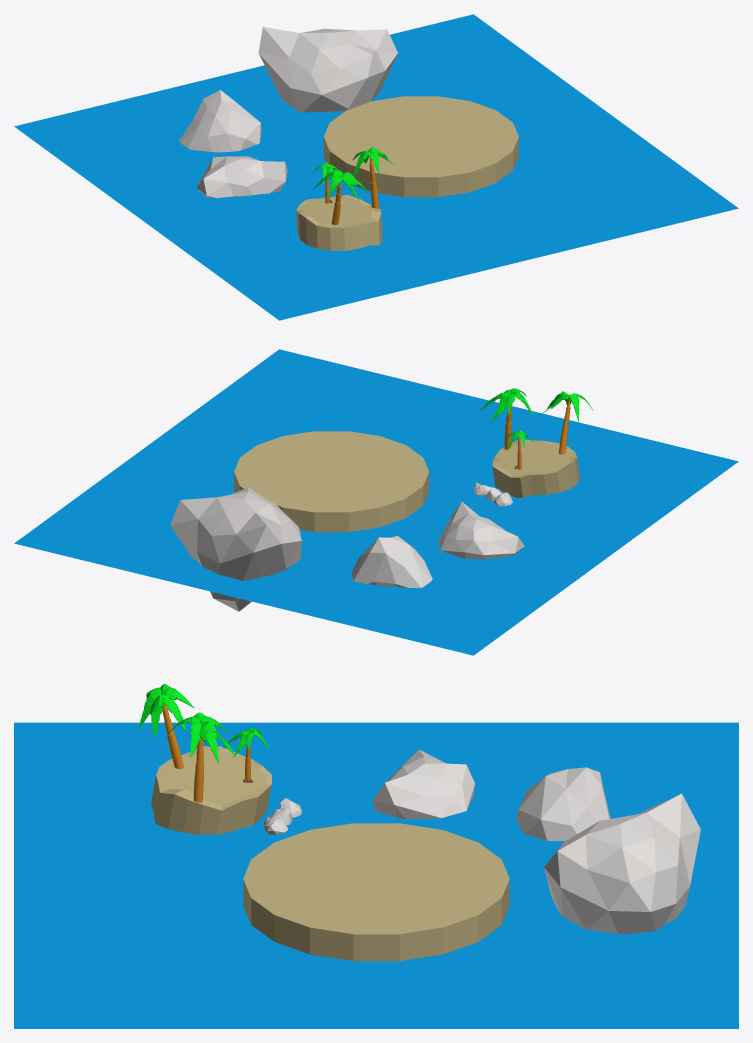
File: Sumo - Island.fbx
3 renders of one model, top to bottom at view 1: azimuth 30°, elevation 25°; view 2: azimuth 150°, elevation 25°; view 3: azimuth 270°, elevation 25°, orthographic. The views are drawn at different scales.
Visible parts, largest first — view 1: Su, Main Ada, Taş.001, Yan Ada, Taş, Taş.005, Palmiye.001, Palmiye.002; view 2: Su, Main Ada, Taş.001, Yan Ada, Taş, Taş.005, Palmiye.002, Palmiye.001; view 3: Su, Main Ada, Taş.001, Yan Ada, Taş, Taş.005, Palmiye.001, Palmiye.002, Palmiye.
Part boxes in pixels (x1,y1,x2,y2): Su: [14, 14, 738, 320]; Main Ada: [323, 96, 518, 197]; Taş.001: [258, 27, 397, 112]; Yan Ada: [296, 195, 382, 250]; Taş: [179, 90, 261, 152]; Taş.005: [196, 156, 287, 197]; Palmiye.001: [313, 169, 367, 224]; Palmiye.002: [352, 147, 395, 208]; Su: [14, 349, 738, 655]; Main Ada: [234, 431, 429, 532]; Taş.001: [170, 487, 301, 611]; Yan Ada: [492, 439, 579, 497]; Taş: [352, 535, 432, 587]; Taş.005: [438, 501, 524, 559]; Palmiye.002: [479, 388, 533, 449]; Palmiye.001: [540, 391, 593, 454]; Su: [14, 722, 738, 1028]; Main Ada: [243, 823, 509, 961]; Taş.001: [544, 793, 700, 933]; Yan Ada: [151, 746, 271, 834]; Taş: [516, 767, 610, 840]; Taş.005: [372, 749, 474, 819]; Palmiye.001: [138, 684, 194, 768]; Palmiye.002: [167, 712, 236, 802]; Palmiye: [223, 728, 269, 780].
Size of the model in its own units: 179 by 46.89 by 179.
